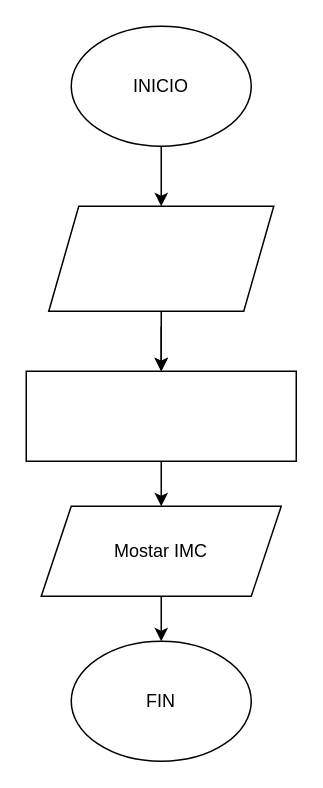
Some shapes in this 323 by 788 pixel diagram are drawn without their labels. Here are the shapes that lost their labels. From the top down, the box of each, then its label:
(47, 205, 274, 311): Ingrese peso Ingrese altura
(25, 370, 296, 461): imc = peso / (altura*altura)
